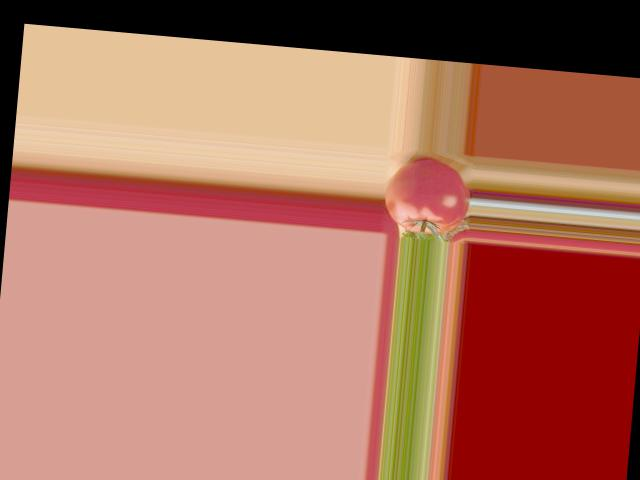tomato: (381, 156, 472, 236)
